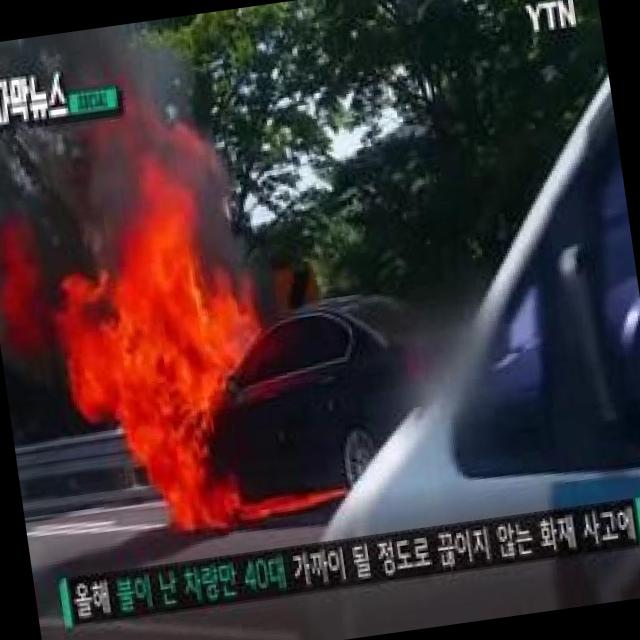Fire: (0, 90, 344, 559)
